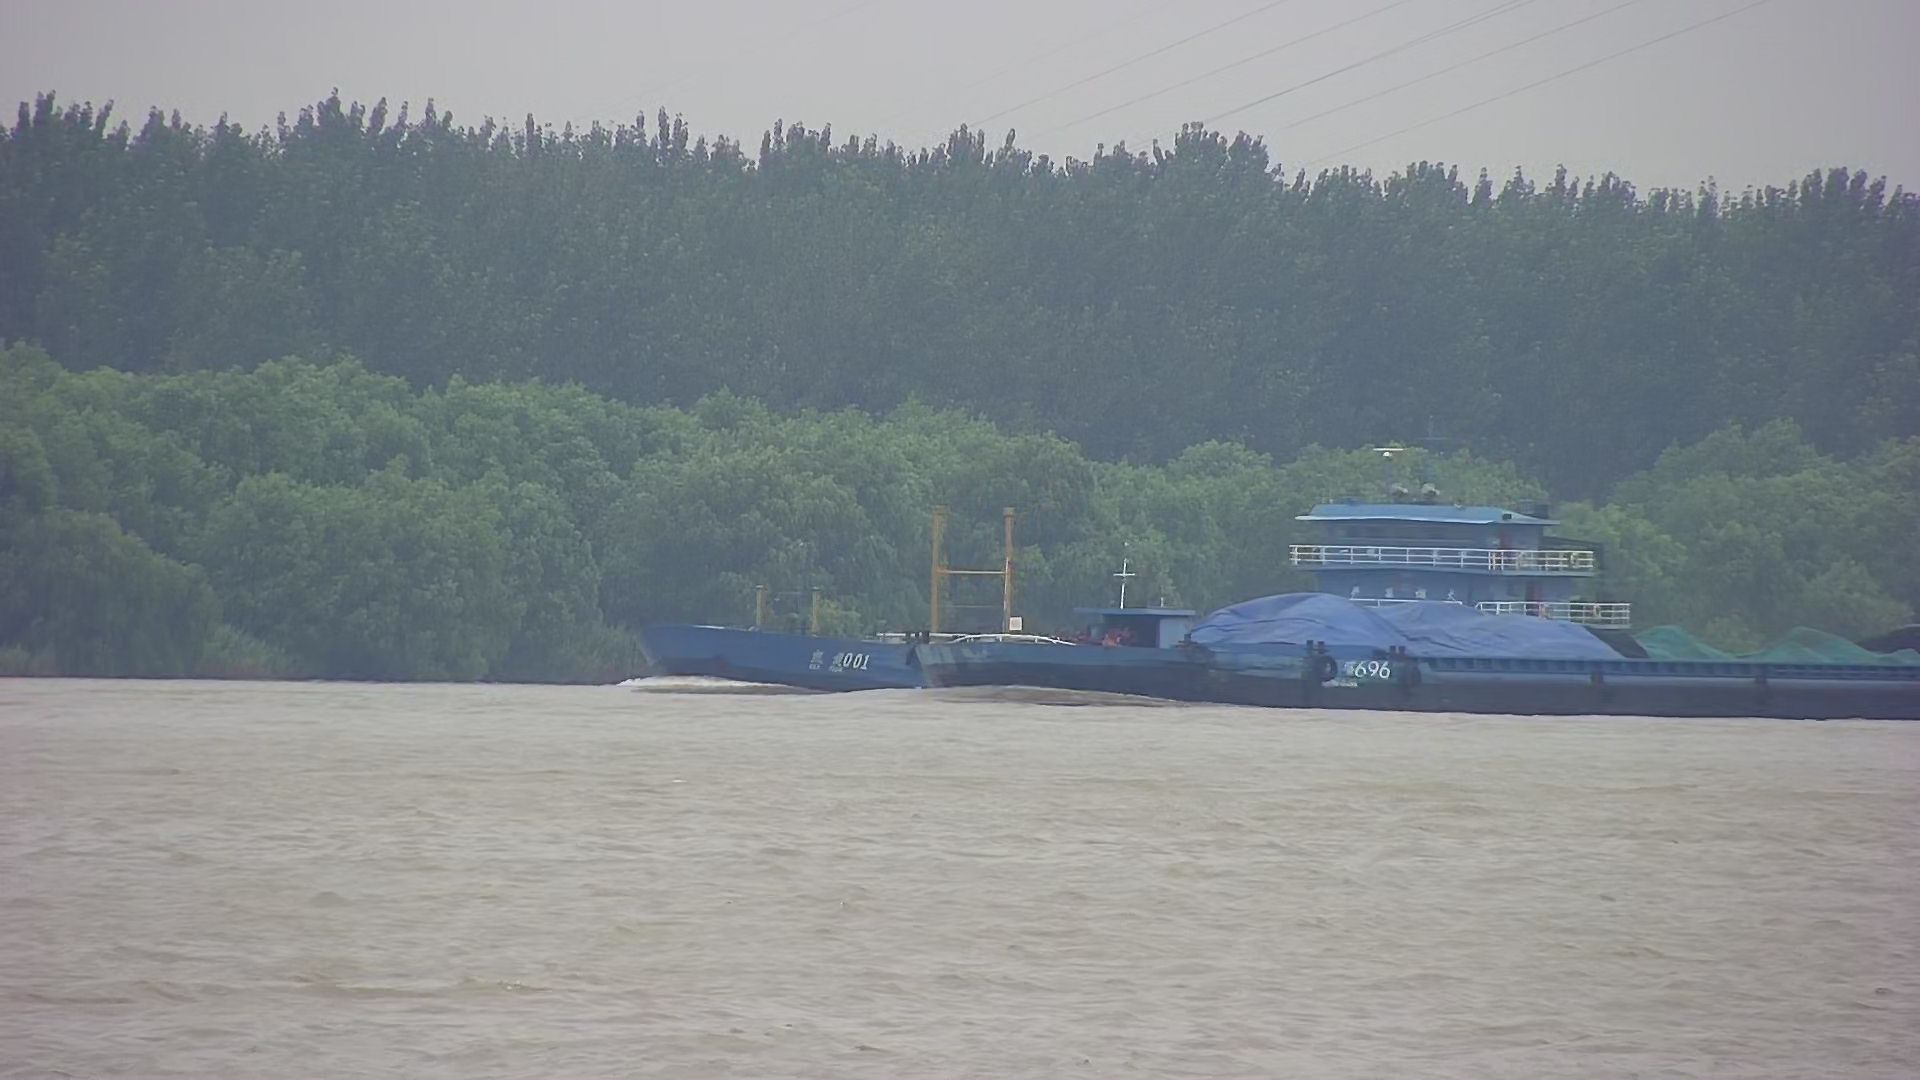ship: (636, 485, 1636, 691), (913, 593, 1920, 719)
